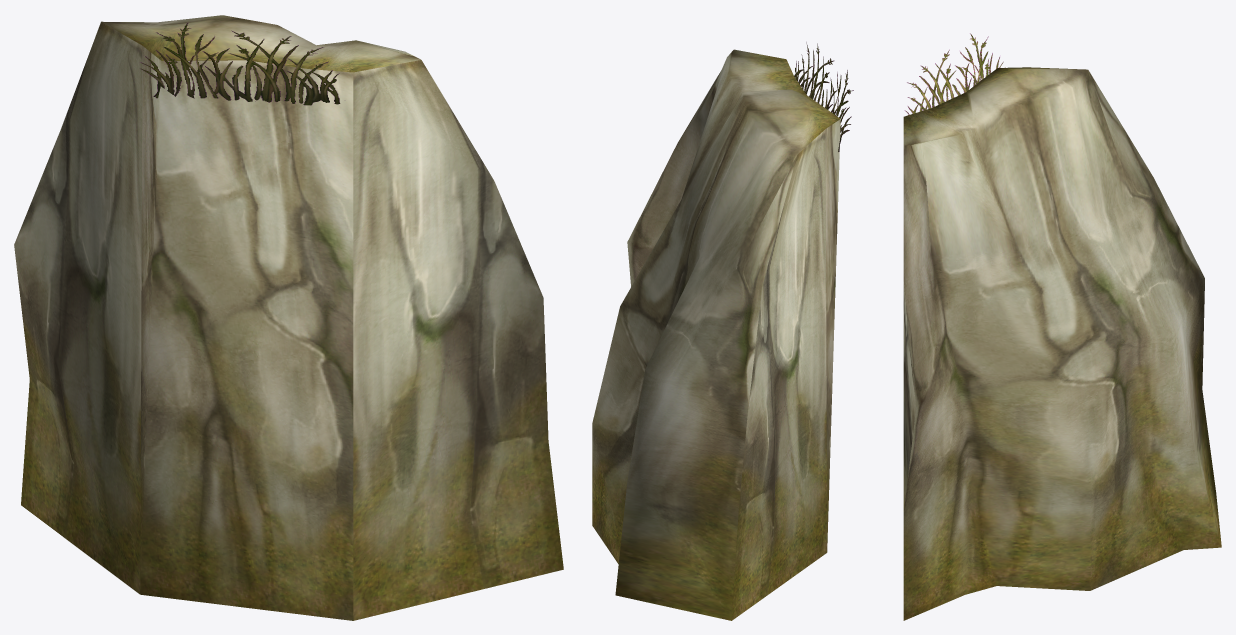
Rendered from a_SWCwallA02.glb.
3 views of the same model, side by side, from view 1: azimuth 30°, elevation 25°; view 2: azimuth 150°, elevation 25°; view 3: azimuth 270°, elevation 25° (orthographic). The views are drawn at different scales.
Visible parts, largest first — view 1: a_SWCwallA02; view 2: a_SWCwallA02; view 3: a_SWCwallA02.
Part boxes in pixels (left/top/right/bottom): a_SWCwallA02: left=14, top=15, right=563, bottom=620; a_SWCwallA02: left=592, top=42, right=853, bottom=620; a_SWCwallA02: left=903, top=33, right=1221, bottom=620.
Size of the model in its own units: 2.44 by 3.8 by 2.41.
Materials: 2 (2 with a texture image).
